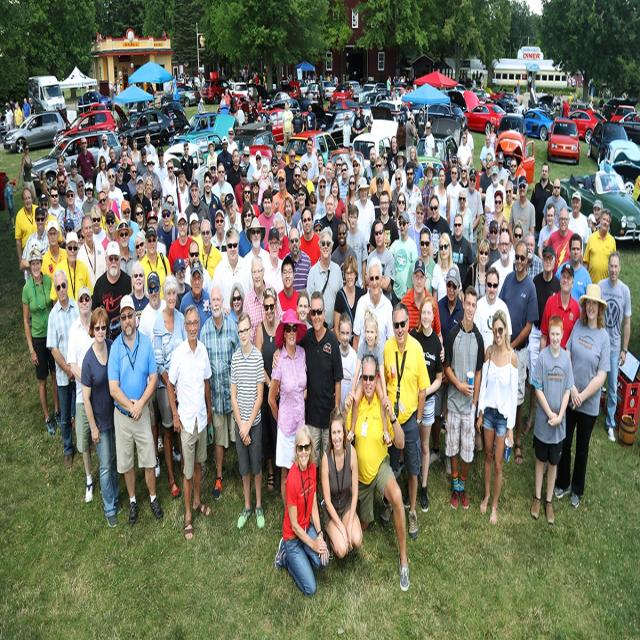body: (102, 65, 598, 118), (340, 352, 411, 594), (271, 290, 345, 493), (41, 150, 176, 258), (551, 282, 613, 510), (106, 291, 165, 523), (380, 301, 432, 541), (164, 303, 212, 543), (273, 423, 331, 600), (528, 312, 575, 527), (441, 283, 485, 512), (474, 307, 520, 526), (136, 267, 182, 480), (80, 304, 123, 530), (498, 238, 540, 468), (198, 282, 242, 501), (404, 294, 445, 512), (266, 308, 308, 513), (228, 312, 266, 534), (152, 272, 188, 498), (428, 265, 466, 476), (21, 248, 62, 435), (319, 404, 364, 560), (46, 269, 80, 469), (346, 306, 393, 450), (597, 250, 632, 441), (66, 286, 96, 505), (312, 144, 391, 219), (255, 286, 283, 494), (350, 253, 396, 366), (530, 245, 561, 411), (400, 257, 444, 367), (90, 239, 133, 342), (305, 226, 345, 333), (538, 262, 582, 357), (209, 227, 254, 317), (242, 254, 284, 347), (472, 266, 513, 360), (14, 186, 40, 329), (49, 231, 94, 312), (234, 145, 288, 212), (386, 211, 419, 311), (555, 232, 593, 314), (333, 254, 366, 347), (178, 258, 212, 340), (74, 214, 106, 301), (240, 215, 272, 301), (582, 208, 617, 286), (337, 314, 363, 414), (365, 218, 396, 301), (18, 205, 51, 282), (529, 162, 555, 258), (138, 225, 172, 298), (430, 231, 463, 304), (462, 236, 494, 310), (404, 227, 436, 298), (352, 175, 376, 267), (368, 189, 400, 256), (345, 203, 368, 295), (281, 226, 311, 295), (423, 194, 452, 264), (481, 216, 524, 263), (448, 213, 475, 287), (546, 206, 574, 276), (464, 167, 484, 264), (168, 209, 196, 278), (274, 253, 301, 324), (508, 174, 535, 245), (40, 218, 69, 284), (490, 230, 517, 297), (331, 220, 358, 287), (184, 177, 213, 239), (260, 226, 284, 297), (237, 200, 266, 258), (568, 189, 590, 265), (197, 217, 223, 281), (398, 159, 423, 225), (58, 184, 86, 242), (183, 240, 213, 294), (16, 143, 42, 205), (408, 200, 434, 262), (484, 189, 513, 244), (0, 93, 37, 136), (112, 219, 138, 280), (297, 205, 322, 268), (200, 170, 223, 237), (318, 193, 342, 256), (37, 191, 63, 248), (429, 166, 452, 229), (536, 202, 560, 262), (127, 260, 150, 322), (541, 176, 568, 228), (452, 186, 474, 249), (271, 167, 296, 222), (210, 161, 237, 210), (156, 201, 180, 256), (256, 186, 276, 250), (286, 164, 312, 213), (266, 210, 291, 259), (446, 165, 463, 237), (298, 135, 320, 190), (74, 136, 98, 186), (129, 174, 153, 223), (161, 158, 180, 216), (172, 257, 192, 312), (523, 230, 544, 281), (484, 165, 506, 213), (420, 161, 436, 225), (107, 166, 125, 222), (172, 167, 192, 217), (403, 144, 425, 188), (290, 182, 307, 238), (478, 152, 493, 215), (210, 208, 228, 260), (497, 154, 521, 193), (223, 192, 244, 236), (47, 184, 67, 227), (389, 150, 408, 195), (216, 135, 234, 182), (114, 162, 132, 209), (227, 281, 246, 324), (142, 155, 164, 192), (2, 173, 16, 230), (587, 198, 607, 237), (226, 148, 243, 193), (456, 132, 473, 176), (386, 134, 400, 187), (391, 169, 407, 215), (180, 140, 195, 188), (283, 148, 301, 188), (296, 290, 314, 329), (96, 131, 112, 174), (444, 154, 463, 189), (153, 146, 169, 187), (479, 134, 496, 172), (501, 179, 516, 222), (460, 123, 474, 169), (187, 211, 204, 248), (423, 121, 436, 167), (282, 99, 294, 148), (96, 154, 110, 195), (405, 113, 416, 164), (107, 142, 131, 165), (299, 162, 315, 196), (352, 103, 366, 141), (284, 192, 296, 235), (128, 136, 143, 168), (134, 230, 148, 262), (394, 190, 409, 219), (415, 107, 428, 140), (291, 106, 305, 136), (206, 140, 219, 171), (126, 163, 137, 199), (304, 104, 318, 132), (136, 146, 148, 178), (342, 114, 352, 150), (143, 132, 157, 156), (39, 169, 52, 194), (488, 122, 498, 154), (197, 96, 206, 128), (121, 132, 132, 158), (457, 169, 472, 187), (208, 163, 218, 186), (313, 217, 323, 238), (218, 190, 226, 212)
